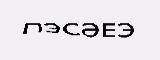А: (101, 20, 122, 41)
Б: (92, 21, 104, 42)
Л: (68, 25, 85, 48)
О: (48, 28, 71, 50)
У: (81, 23, 95, 46)
